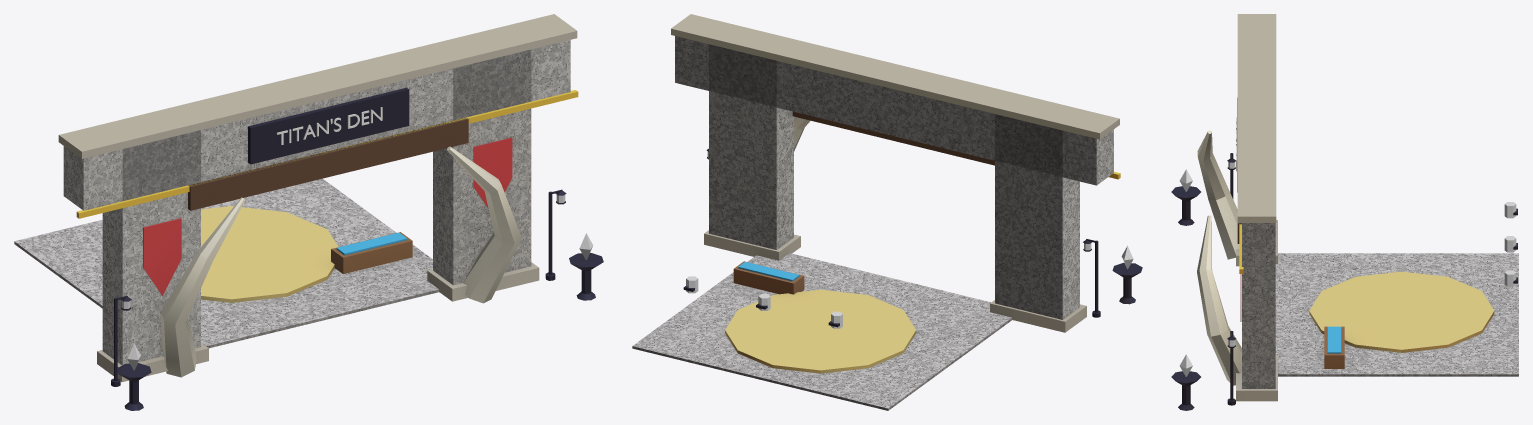
Rendered from home_den_3.fbx.
3 renders of one model, left to right at view 1: azimuth 30°, elevation 25°; view 2: azimuth 150°, elevation 25°; view 3: azimuth 270°, elevation 25°, orthographic. The views are drawn at different scales.
Parts seen in each view (by area): view 1: home_den_3_body; view 2: home_den_3_body, home_den_3_body_glow; view 3: home_den_3_body, home_den_3_body_glow, home_den_3_body3_glow.
Boxes of the visible parts, x1,y1,x2,y2 form: home_den_3_body: (14,14,603,410); home_den_3_body: (632,14,1142,410); home_den_3_body_glow: (686,276,842,328); home_den_3_body: (1171,14,1518,410); home_den_3_body_glow: (1504,202,1516,286); home_den_3_body3_glow: (1179,169,1192,376).
Bounding box in the file's own units: 5740 × 2690 × 4130.
Materials: 2 (1 with a texture image).
